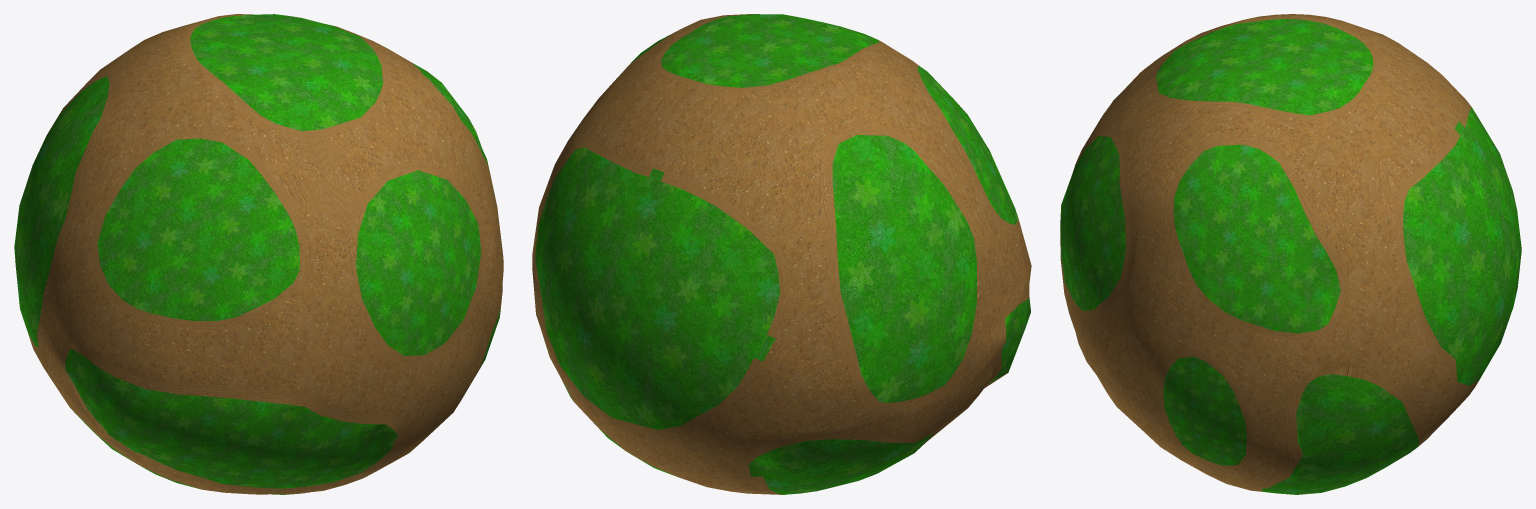
File: HikeGardenBoulderPlanet.obj
3 views of the same model, side by side, from view 1: azimuth 30°, elevation 25°; view 2: azimuth 150°, elevation 25°; view 3: azimuth 270°, elevation 25° (orthographic). The views are drawn at different scales.
Visible parts, largest first — view 1: Sphere.000_Sphere.019, Sphere.001_Sphere.000; view 2: Sphere.000_Sphere.019, Sphere.001_Sphere.000; view 3: Sphere.001_Sphere.000, Sphere.000_Sphere.019.
Boxes of the visible parts, bbox=[...] form: Sphere.000_Sphere.019: bbox=[14, 14, 500, 494]; Sphere.001_Sphere.000: bbox=[28, 14, 503, 494]; Sphere.000_Sphere.019: bbox=[535, 14, 1030, 494]; Sphere.001_Sphere.000: bbox=[532, 14, 1031, 494]; Sphere.001_Sphere.000: bbox=[1060, 14, 1479, 491]; Sphere.000_Sphere.019: bbox=[1060, 19, 1521, 494].
Size of the model in its own units: 2026 by 1971 by 1984.
